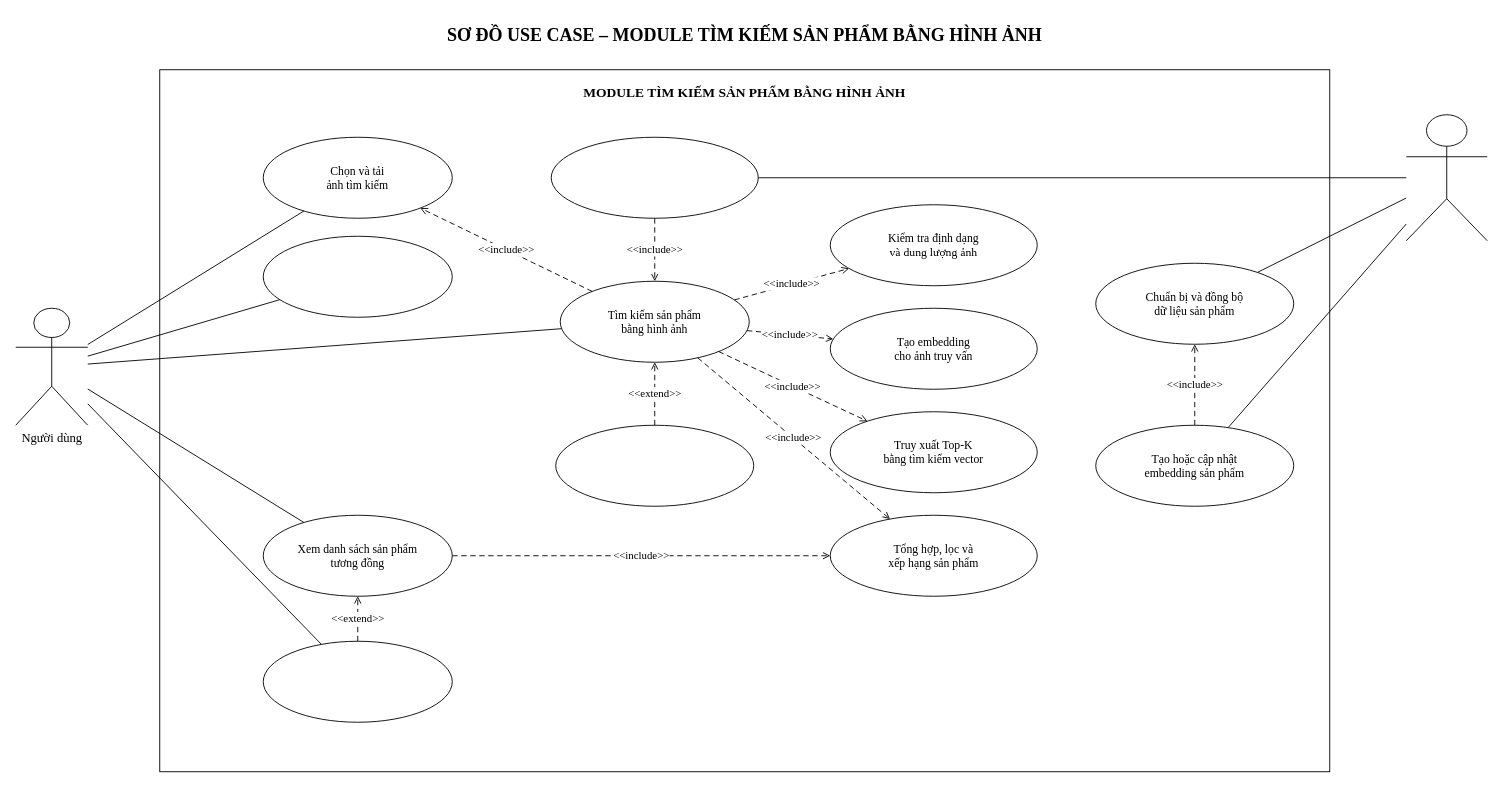
This 1503x788 diagram has some shape labels left out. Each missing label, with the box of its shape:
Quản trị viên dữ liệu AI: (1405, 114, 1487, 241)
Thông báo lỗi phù hợp: (555, 424, 754, 506)
Xem chi tiết sản phẩm: (262, 640, 452, 722)
Xem ảnh và trạng thái đang xử lý: (262, 235, 452, 317)
Đánh giá và tối ưu chất lượng tìm kiếm: (550, 136, 758, 218)
